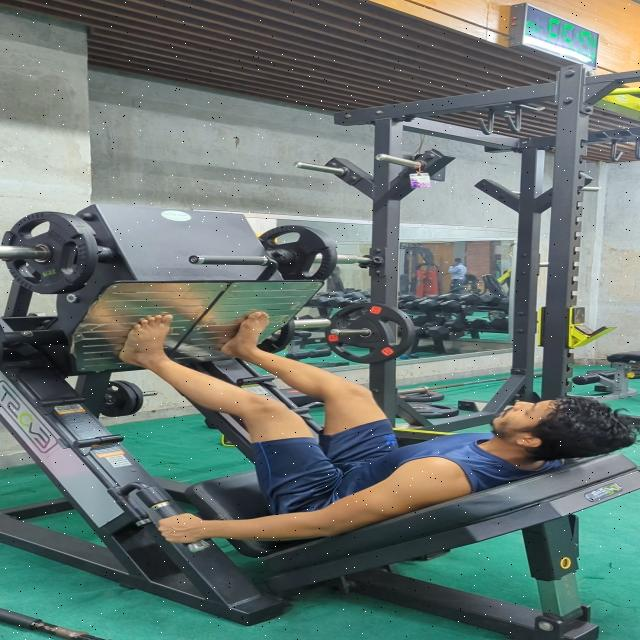Normal_LegPress: (101, 307, 634, 550)
